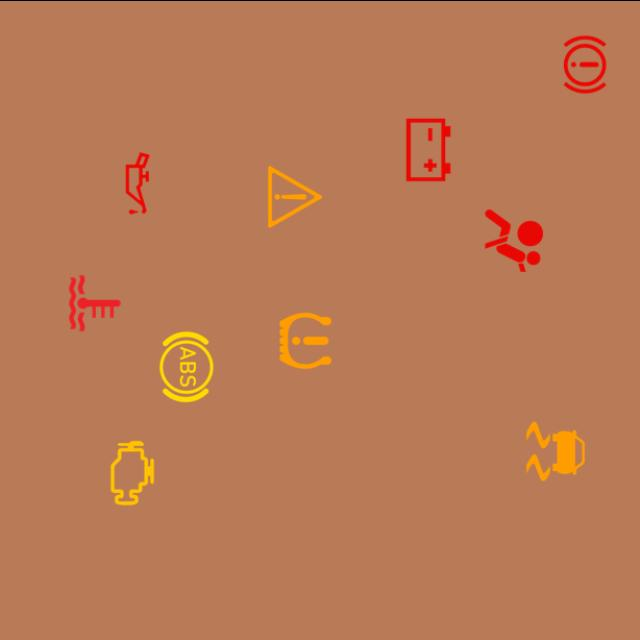Anti Lock Braking System: (148, 328, 225, 404)
Braking System Issue: (546, 25, 624, 102)
Charging System Issue: (390, 110, 467, 188)
Check Engine: (94, 434, 171, 511)
Electronic Stability Problem -ESP-: (517, 412, 594, 489)
Engine Overheating Warning Light: (56, 264, 134, 341)
Low Engine Oil Warning Light: (99, 144, 176, 221)
Low Tire Pressure Warning Light: (267, 302, 344, 378)
Master warning light: (256, 158, 334, 235)
SRS-Airbag: (476, 201, 552, 278)
